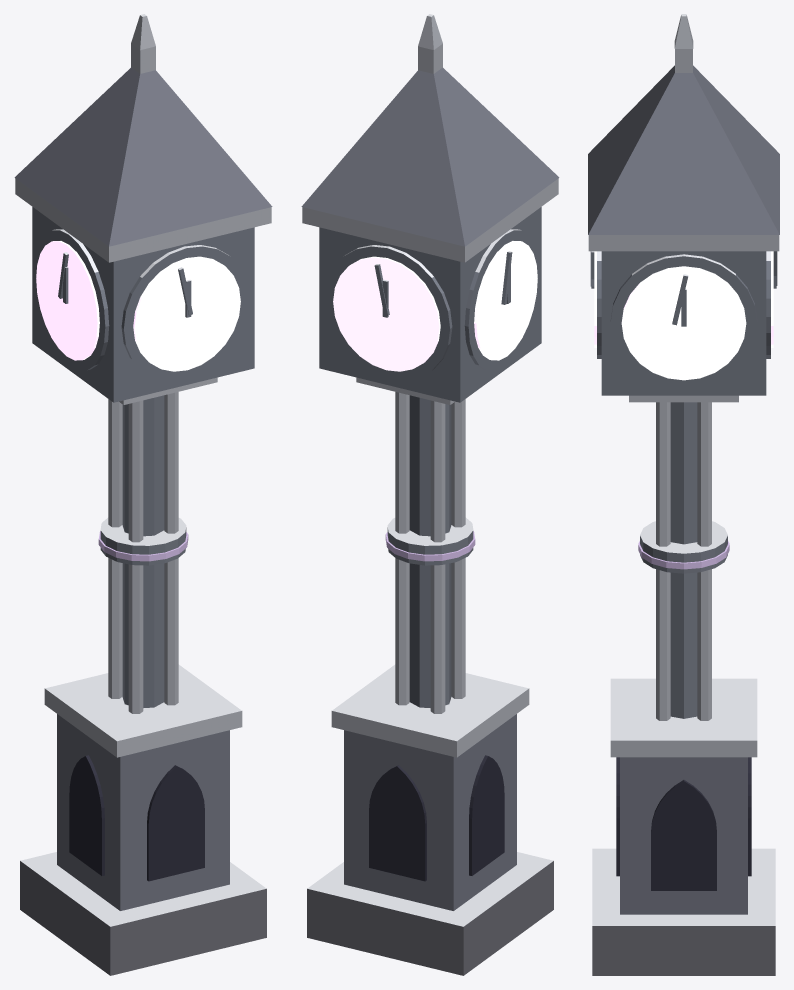
File: PR_Relogio_Rua.fbx
The picture shows the model from 3 angles, left to right: view 1: azimuth 30°, elevation 25°; view 2: azimuth 150°, elevation 25°; view 3: azimuth 270°, elevation 25°; orthographic projection.
Parts seen in each view (by area): view 1: PR_Relogio_Rua; view 2: PR_Relogio_Rua; view 3: PR_Relogio_Rua.
Boxes of the visible parts, <box> form: PR_Relogio_Rua: <box>14,14,272,975</box>; PR_Relogio_Rua: <box>301,14,559,975</box>; PR_Relogio_Rua: <box>588,14,779,975</box>.
Size of the model in its own units: 1.05 by 5.55 by 1.05.
